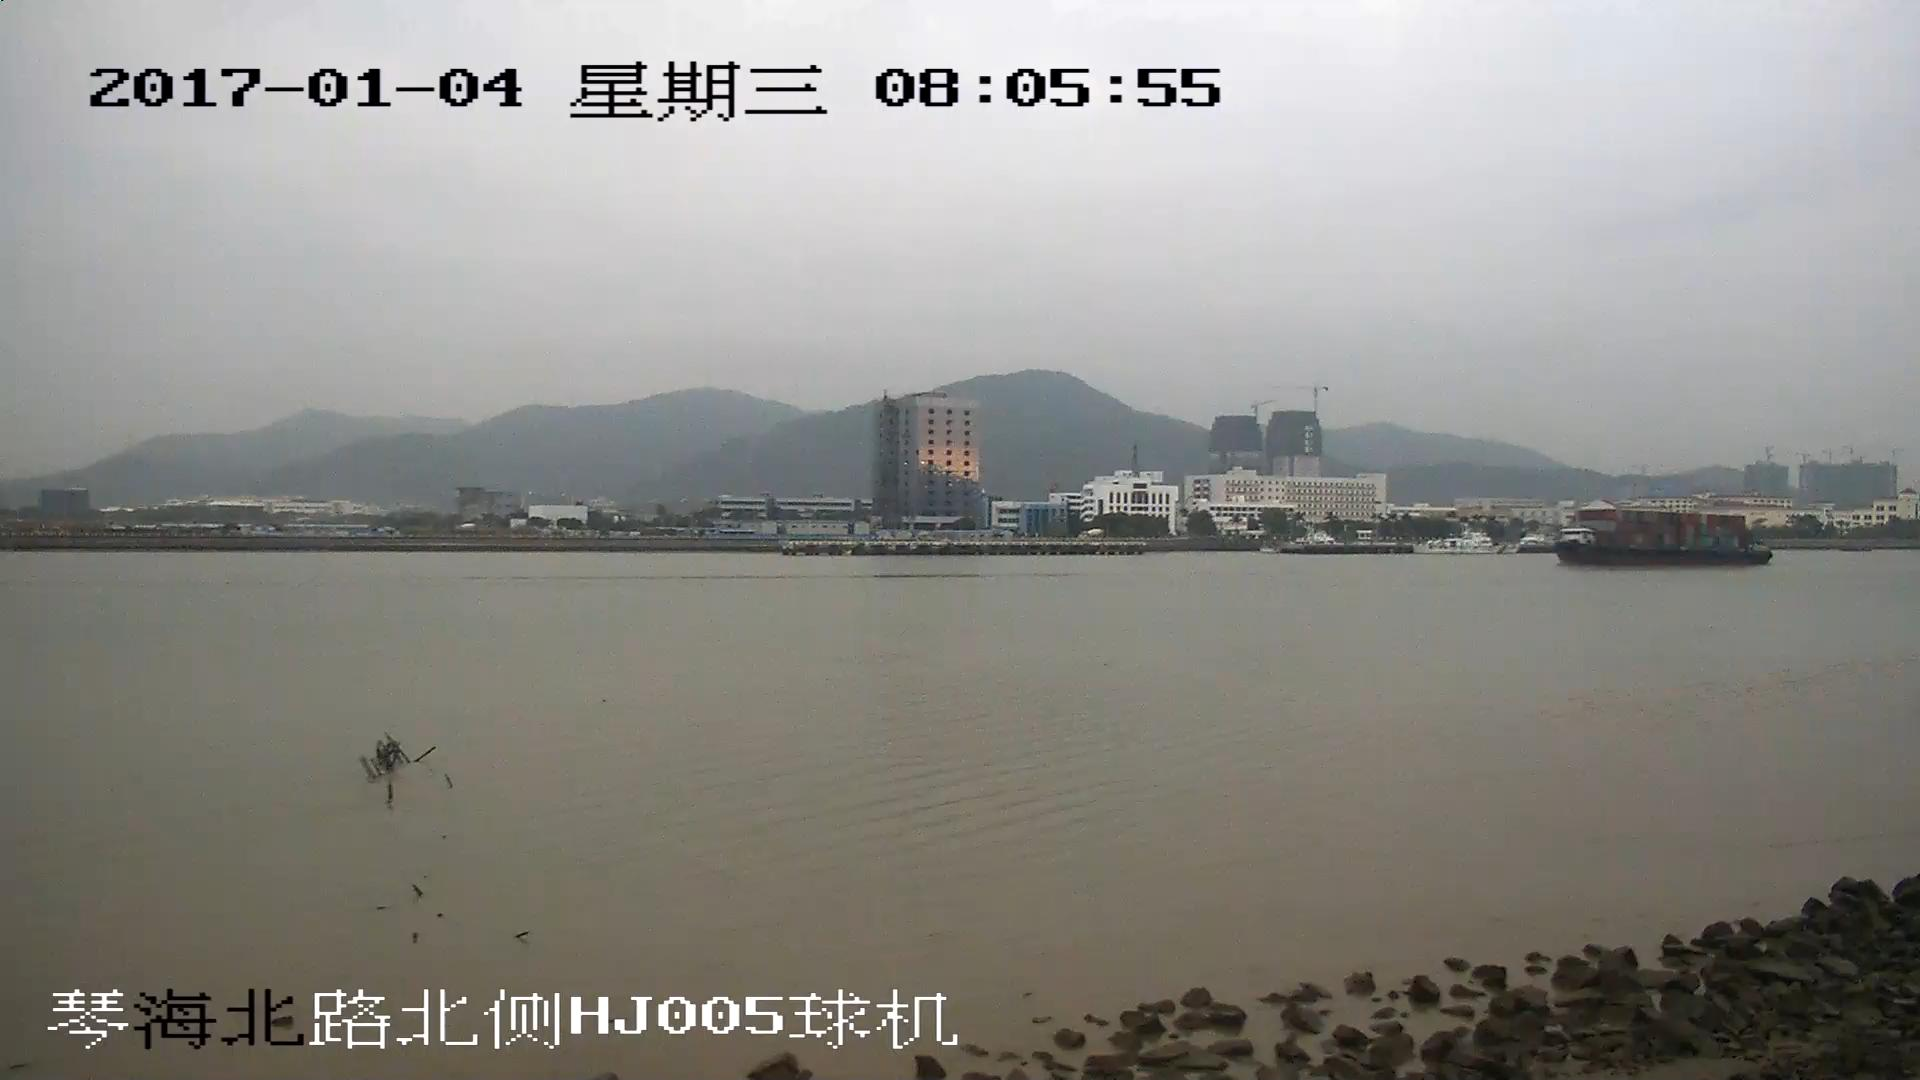container ship: (1554, 507, 1773, 565)
